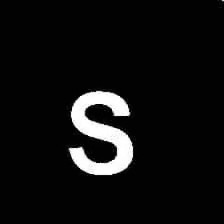LTR_S: (63, 84, 137, 179)
